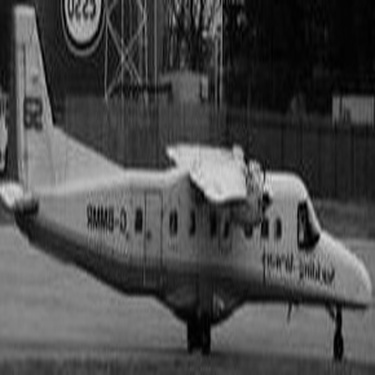airplane: (8, 4, 366, 369)
